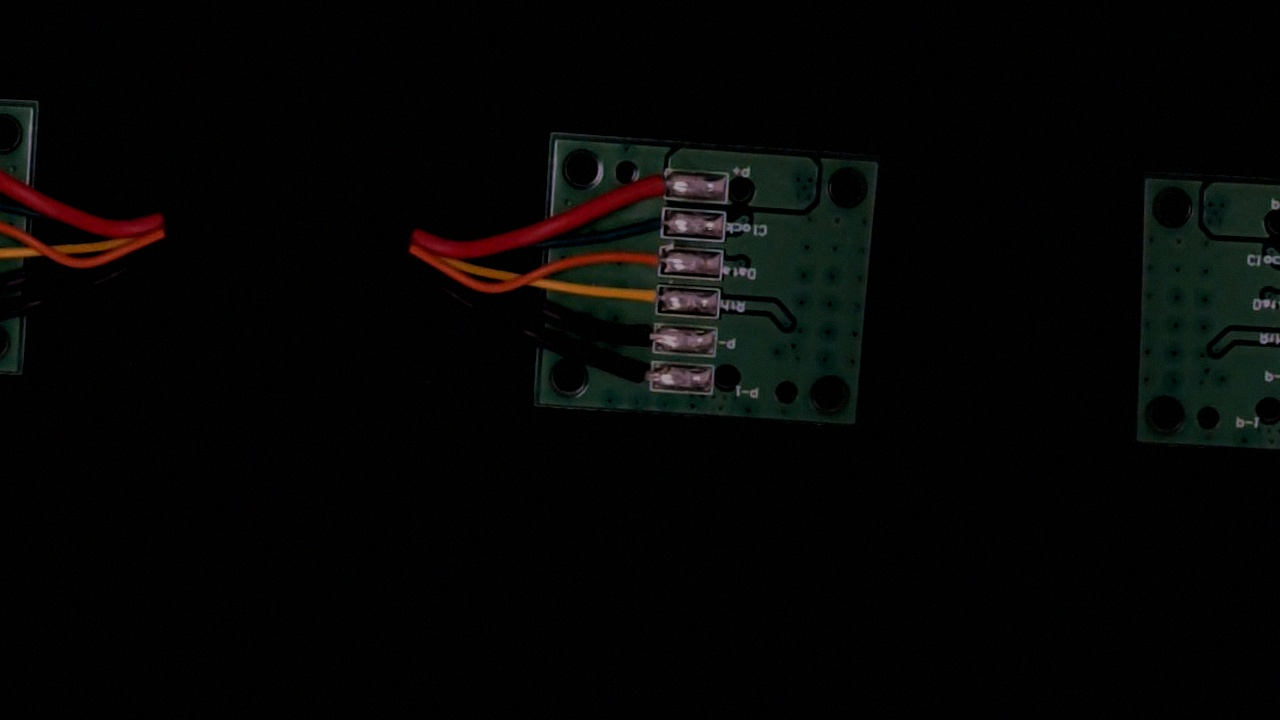Black: (602, 320, 677, 358)
Black1: (603, 360, 672, 397)
Green: (621, 206, 683, 241)
Orange: (606, 244, 680, 280)
Red: (613, 165, 685, 203)
Yellow: (602, 278, 678, 316)
